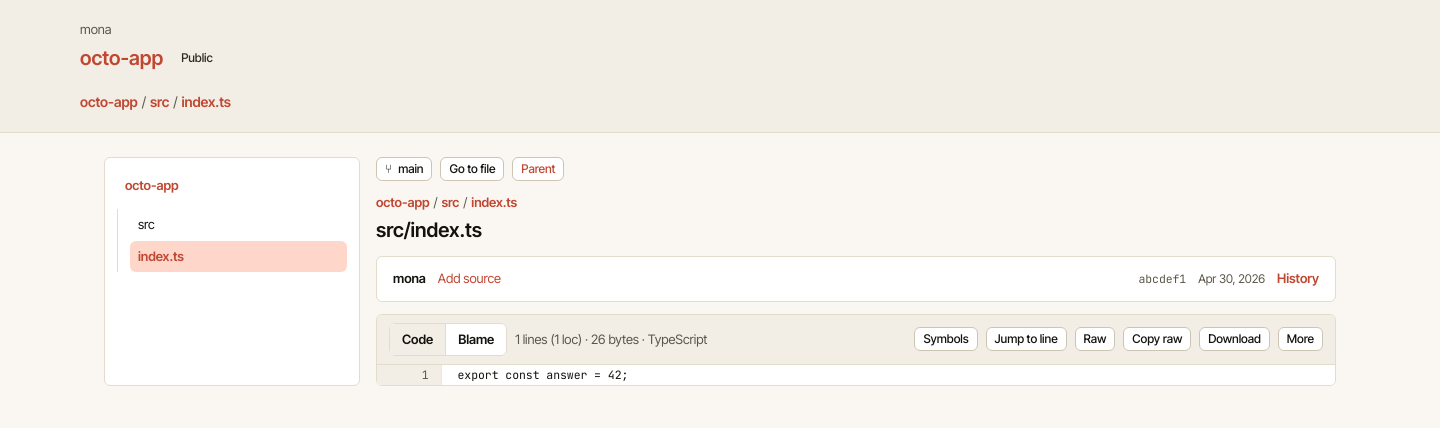
it: RepositoryCodeOverview › copies blob raw content through the same-origin raw route
The width and height of the screenshot is (1440, 428).
Click the button "Copy raw". click: point(1157, 339)
box: [1123,327,1191,351]
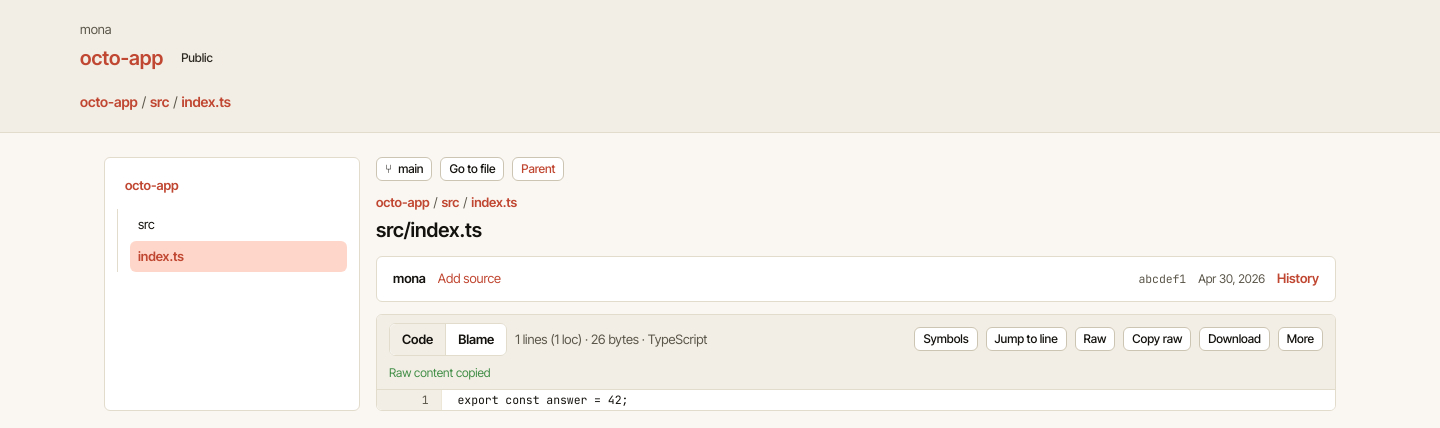
Expected: the message reads "Raw content copied", [389,365,490,380]
